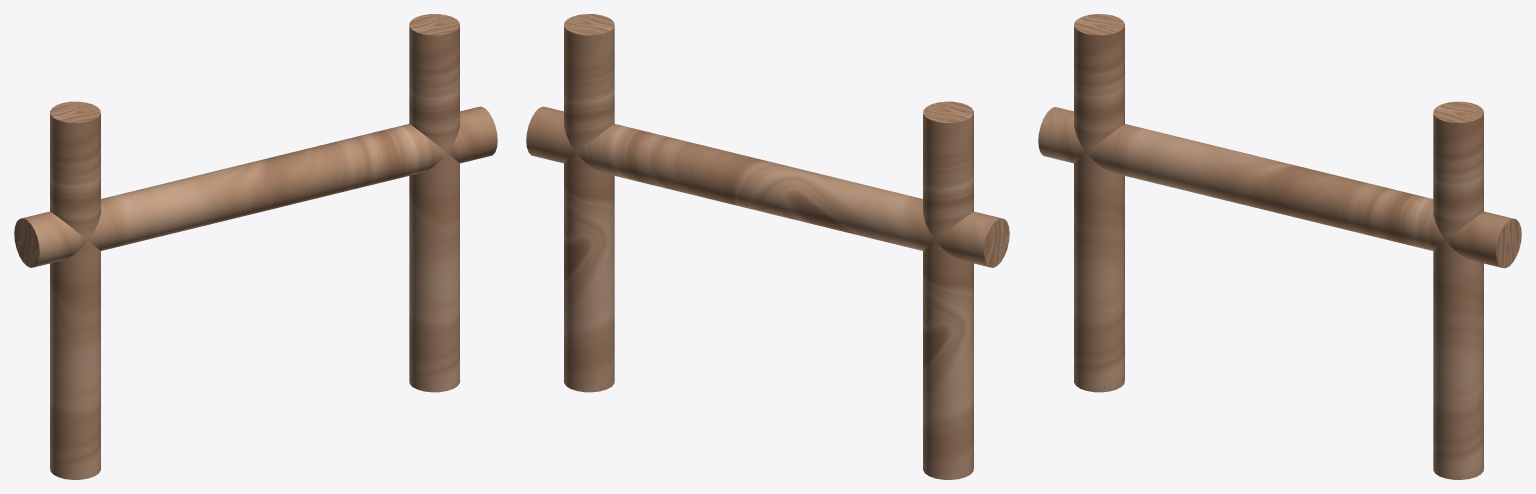
The model's file is fence.fbx.
The picture shows the model from 3 angles, left to right: view 1: azimuth 30°, elevation 25°; view 2: azimuth 150°, elevation 25°; view 3: azimuth 330°, elevation 25°; orthographic projection.
Visible parts, largest first — view 1: pCylinder3, pCylinder4, pCylinder1; view 2: pCylinder3, pCylinder4, pCylinder1; view 3: pCylinder3, pCylinder1, pCylinder4.
Boxes of the visible parts, x1=… form: pCylinder3: x1=14, y1=106, x2=497, y2=267; pCylinder4: x1=50, y1=101, x2=100, y2=479; pCylinder1: x1=409, y1=14, x2=459, y2=392; pCylinder3: x1=526, y1=106, x2=1009, y2=267; pCylinder4: x1=923, y1=101, x2=973, y2=479; pCylinder1: x1=564, y1=14, x2=614, y2=392; pCylinder3: x1=1038, y1=107, x2=1521, y2=268; pCylinder1: x1=1433, y1=101, x2=1483, y2=479; pCylinder4: x1=1074, y1=14, x2=1124, y2=392.
Size of the model in its own units: 4.74 by 3.53 by 0.457.
1 material, 1 textured.
